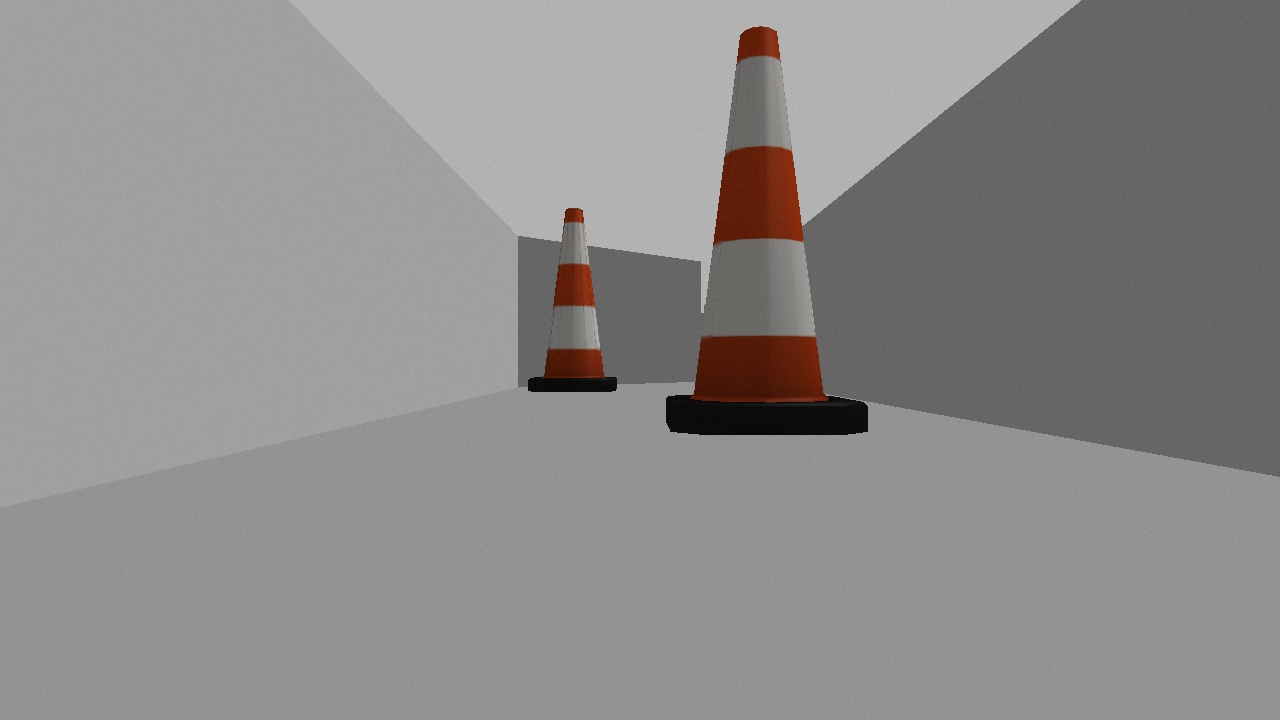barricade: (650, 13, 880, 440), (523, 204, 624, 398)
